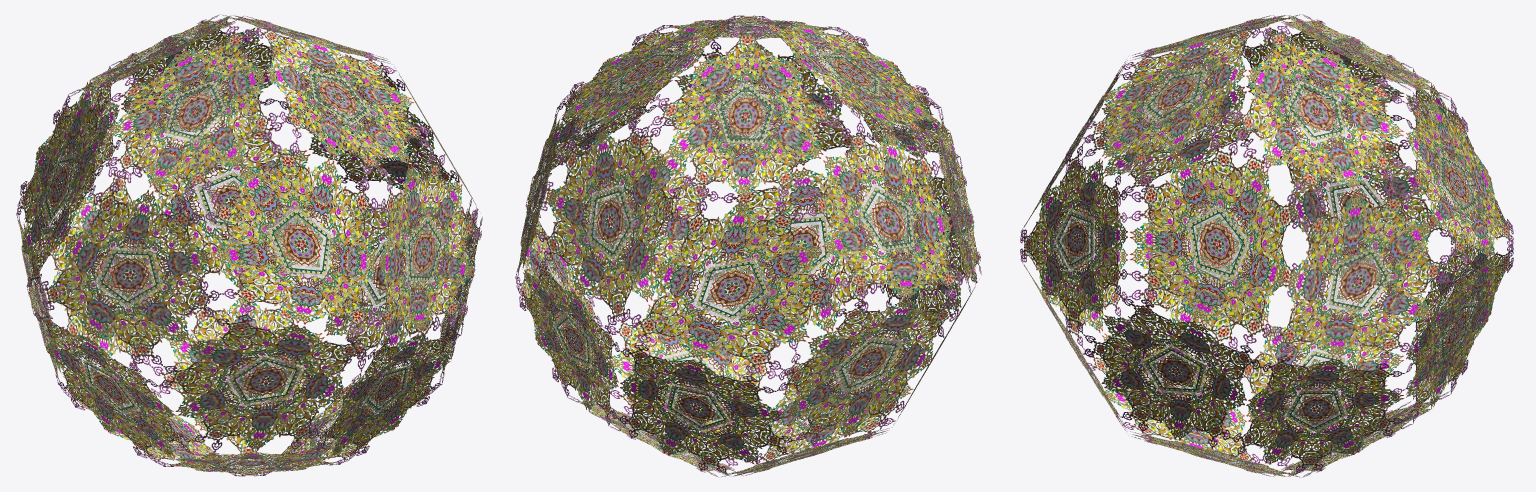
The model's file is PentagonalIcositetrahedron3.obj.
3 renders of one model, left to right at view 1: azimuth 30°, elevation 25°; view 2: azimuth 150°, elevation 25°; view 3: azimuth 270°, elevation 25°, orthographic.
Bounding box in the file's own units: 2.72 × 2.72 × 2.72.
Materials: 1 (1 with a texture image).
